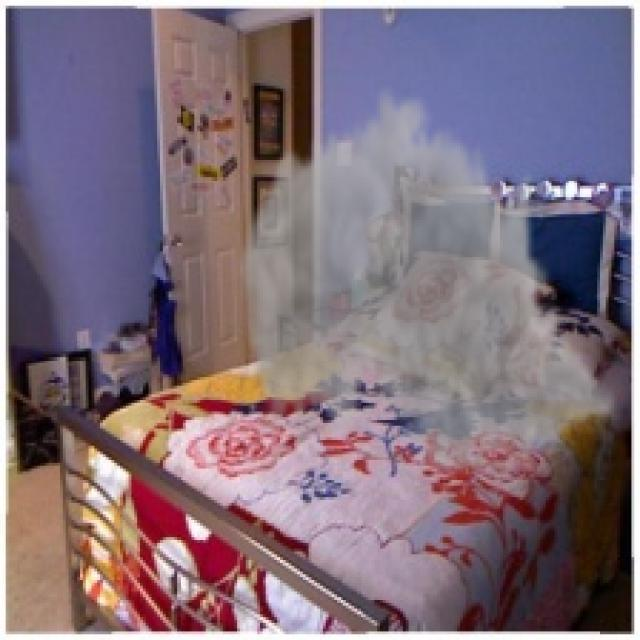Smoke: (235, 80, 620, 489)
